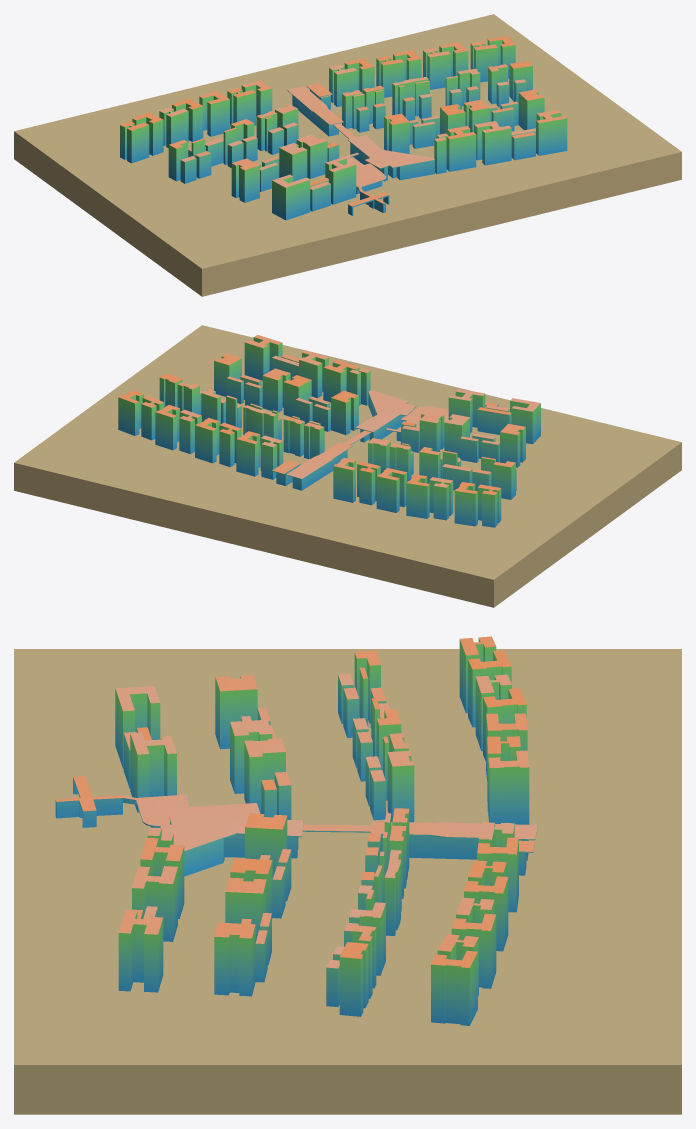
Rendered from environmental2.gltf.
The picture shows the model from 3 angles, top to bottom: view 1: azimuth 30°, elevation 25°; view 2: azimuth 150°, elevation 25°; view 3: azimuth 270°, elevation 25°; orthographic projection. The views are drawn at different scales.
Visible parts, largest first — view 1: Cube, Building; view 2: Cube, Building; view 3: Cube, Building.
Boxes of the visible parts, box(x1,y1,x2,y2) form: Cube: box(14, 14, 681, 296); Building: box(120, 36, 567, 220); Cube: box(14, 325, 681, 607); Building: box(118, 335, 540, 527); Cube: box(14, 649, 681, 1114); Building: box(55, 636, 537, 1025).
Size of the model in its own units: 1618 by 195 by 1098.
2 materials, 1 textured.
